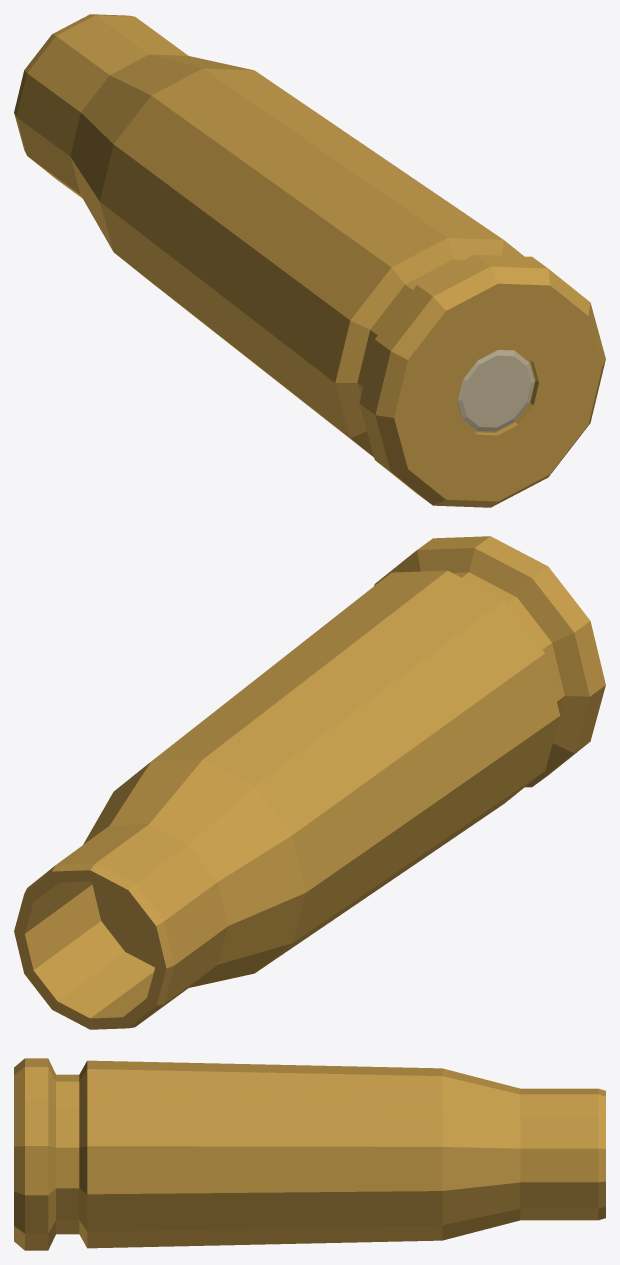
File: bullet_casing.glb
3 renders of one model, top to bottom at view 1: azimuth 30°, elevation 25°; view 2: azimuth 150°, elevation 25°; view 3: azimuth 270°, elevation 25°, orthographic. The views are drawn at different scales.
Parts seen in each view (by area): view 1: Casing, Primer; view 2: Casing; view 3: Casing.
Boxes of the visible parts, bbox=[...] form: Casing: bbox=[14, 14, 605, 507]; Primer: bbox=[457, 350, 534, 431]; Casing: bbox=[14, 536, 605, 1029]; Casing: bbox=[14, 1058, 605, 1250].
Size of the model in its own units: 0.0124 by 0.0124 by 0.038.
